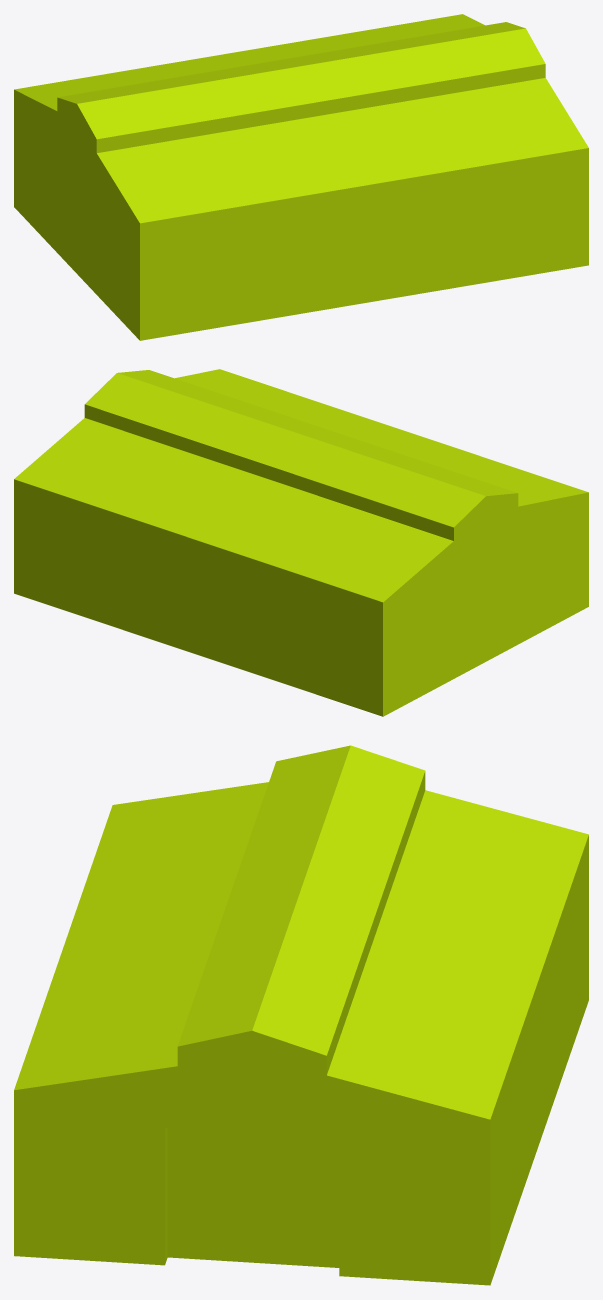
File: barak.fbx
The picture shows the model from 3 angles, top to bottom: view 1: azimuth 30°, elevation 25°; view 2: azimuth 150°, elevation 25°; view 3: azimuth 270°, elevation 25°; orthographic projection. The views are drawn at different scales.
Parts seen in each view (by area): view 1: Cube.029; view 2: Cube.029; view 3: Cube.029.
Part boxes in pixels (box(x1,y1,x2,y2)): Cube.029: box(14, 14, 588, 340); Cube.029: box(14, 369, 588, 716); Cube.029: box(14, 745, 588, 1285).
Bounding box in the file's own units: 1814 × 645 × 1401.
